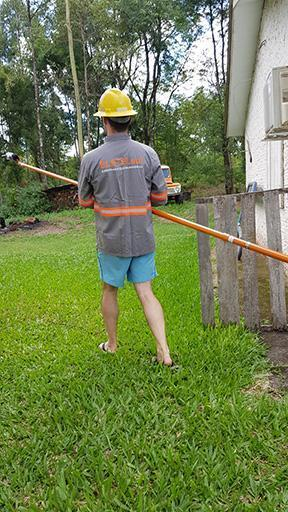helmet: (91, 87, 138, 135)
